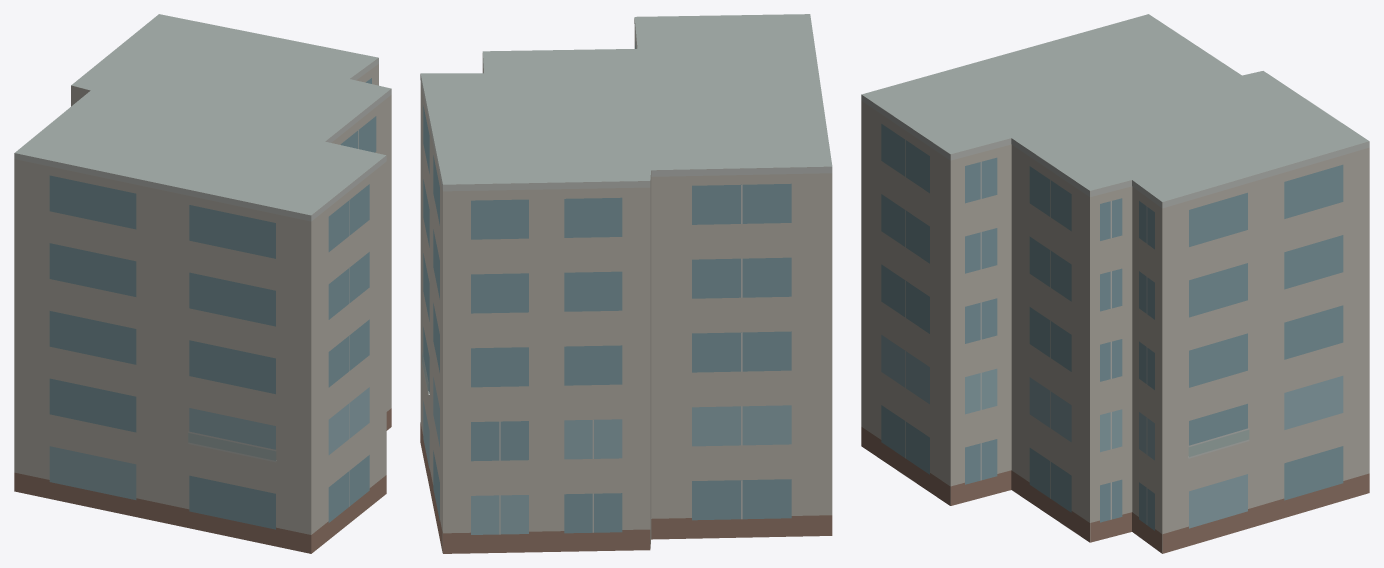
File: survey-upis-32887532.glb
3 renders of one model, left to right at view 1: azimuth 30°, elevation 25°; view 2: azimuth 150°, elevation 25°; view 3: azimuth 270°, elevation 25°, orthographic. The views are drawn at different scales.
Parts seen in each view (by area): view 1: survey-upis-32887532.tmp; view 2: survey-upis-32887532.tmp; view 3: survey-upis-32887532.tmp.
Boxes of the visible parts, x1,y1,x2,y2 form: survey-upis-32887532.tmp: (14, 14, 391, 553); survey-upis-32887532.tmp: (420, 14, 832, 553); survey-upis-32887532.tmp: (861, 14, 1369, 553).
Size of the model in its own units: 15.61 by 13.6 by 17.82.
